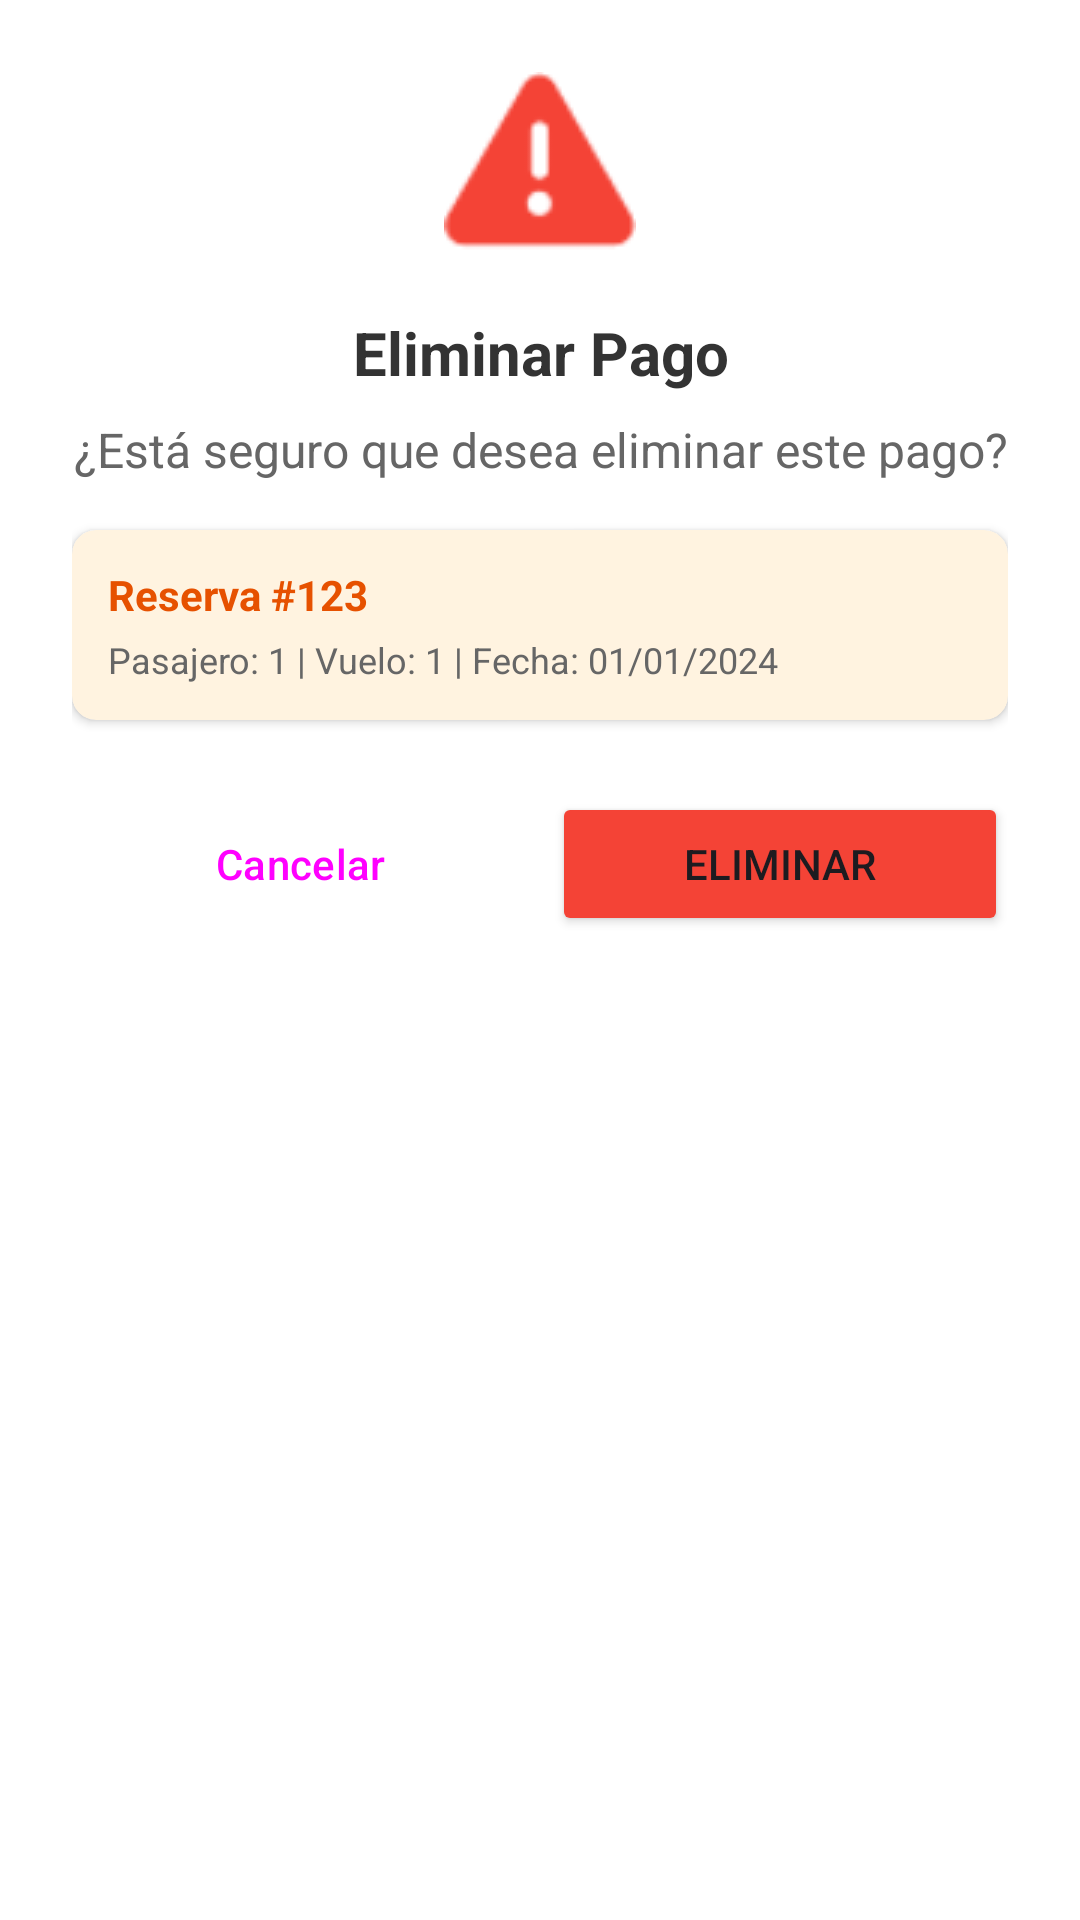

Screen size 1080px x 1920px. Icon name, then its box in pixels as (x1, y1, x2, y2):
alert: (444, 72, 636, 247)
